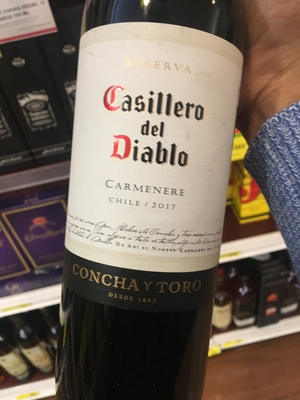casillero del diablo carmenere: (56, 18, 264, 396)
